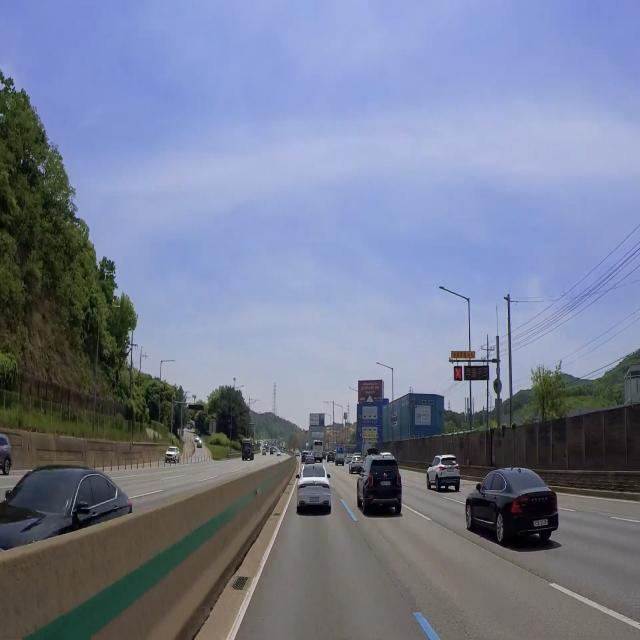car: (530, 513, 553, 532), (308, 492, 324, 508), (378, 477, 394, 493), (446, 465, 457, 480)
